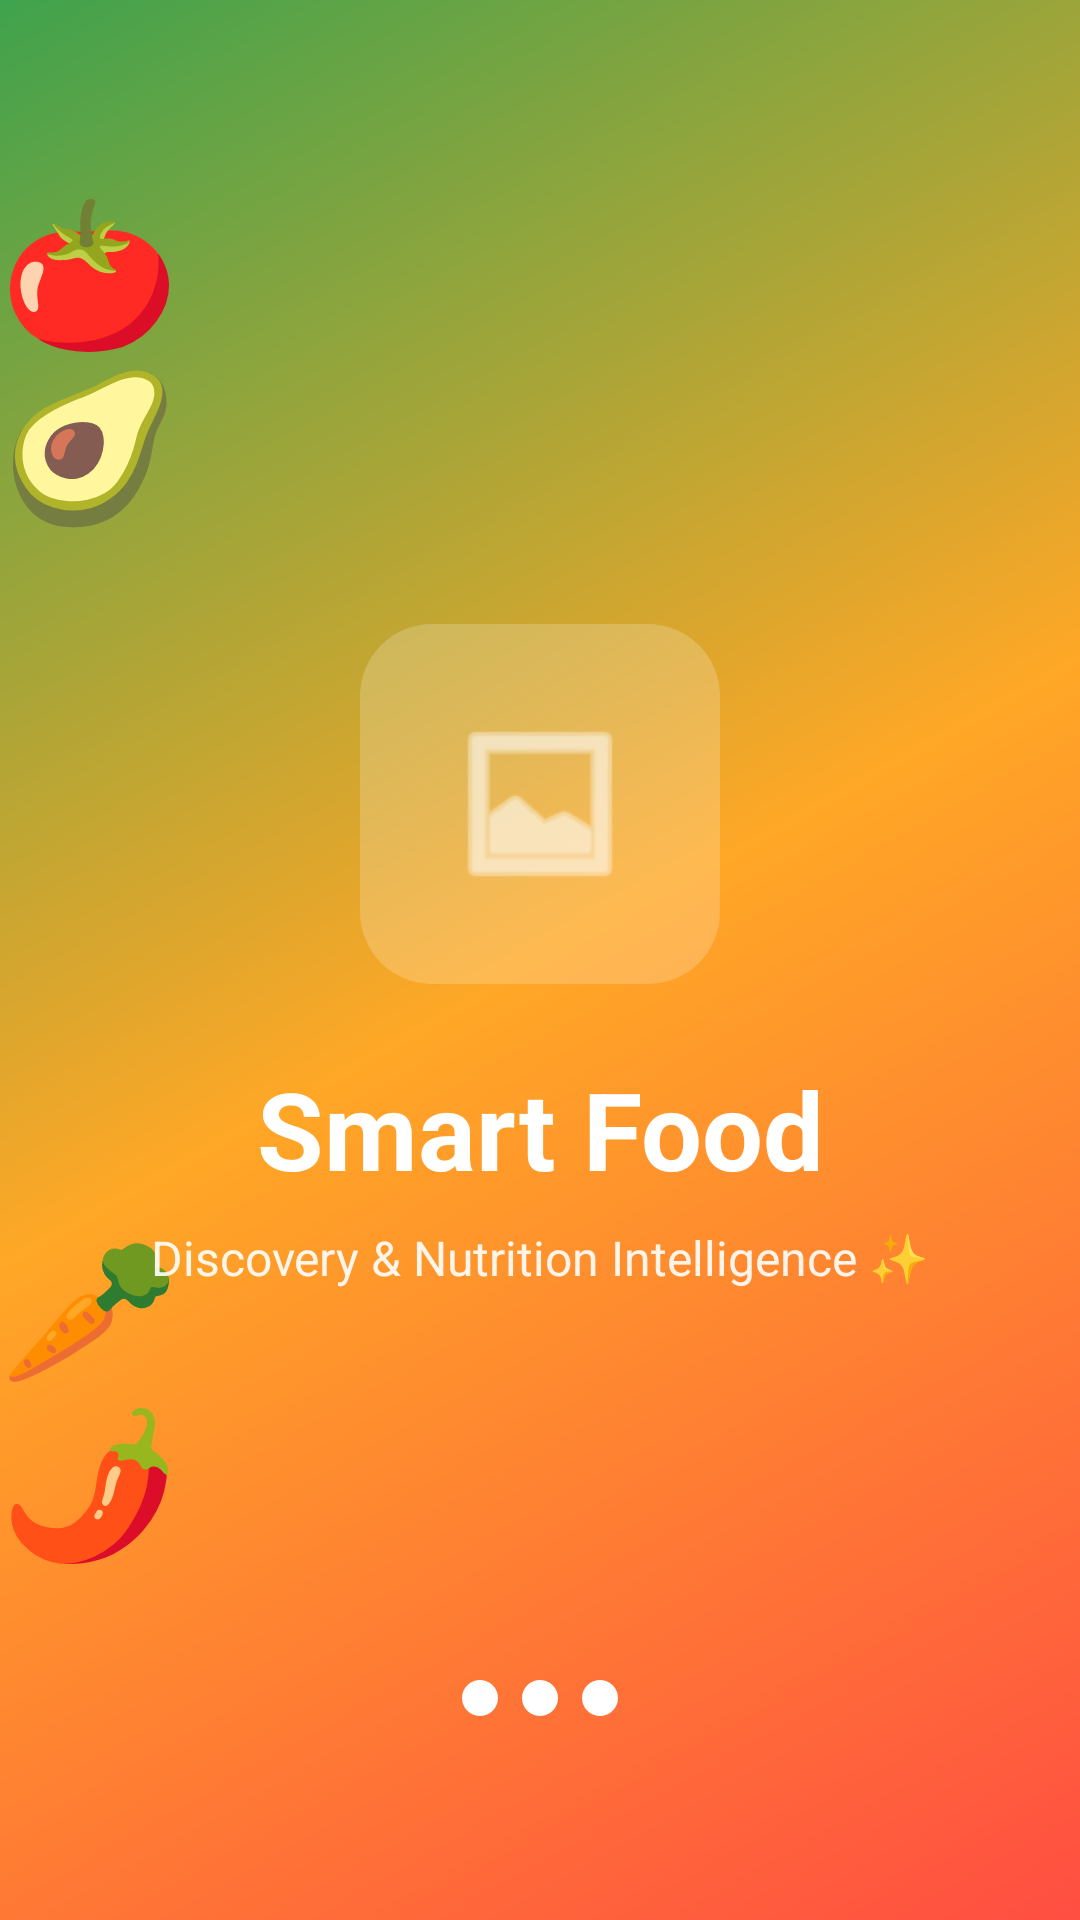

Screen size 1080px x 1920px. Icon name, then its box in pixels as (x1, y1, x2, y2):
gallery: (468, 732, 612, 876)
